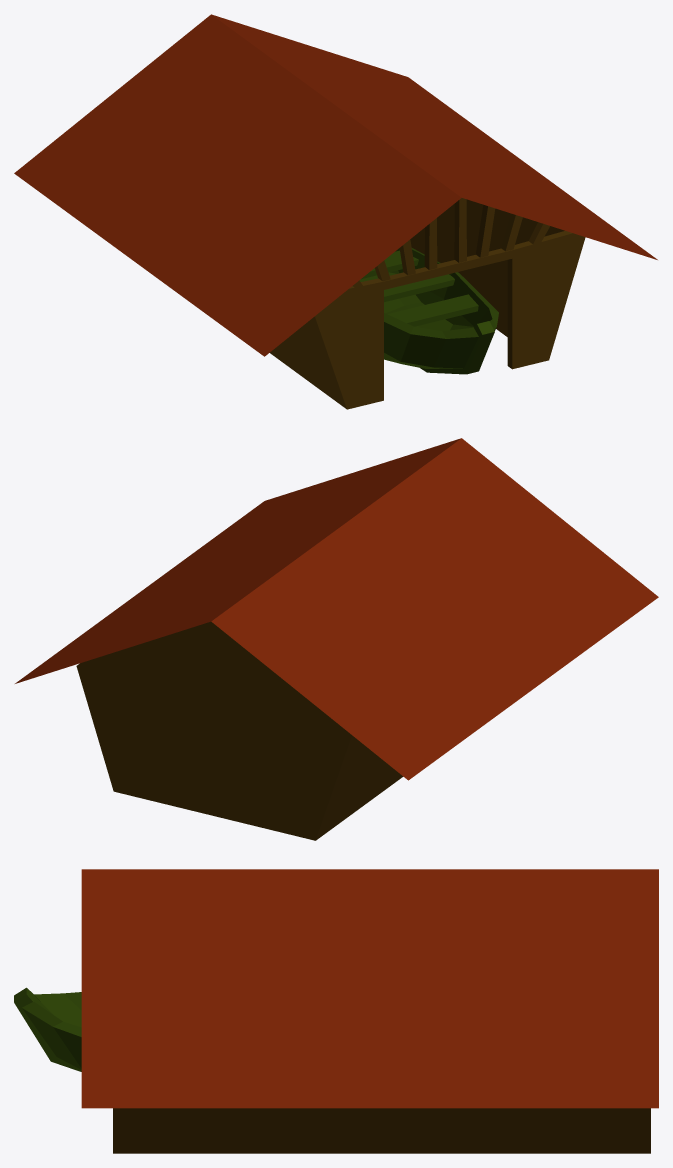
The model's file is 25.05_Bubuia_Estaleiro1-0.fbx.
3 renders of one model, top to bottom at view 1: azimuth 30°, elevation 25°; view 2: azimuth 150°, elevation 25°; view 3: azimuth 270°, elevation 25°, orthographic. The views are drawn at different scales.
Visible parts, largest first — view 1: Cube; view 2: Cube; view 3: Cube.
Part boxes in pixels (x1,y1,x2,y2): Cube: [14, 14, 657, 409]; Cube: [15, 438, 658, 840]; Cube: [14, 869, 658, 1153].
Bounding box in the file's own units: 1402 × 670 × 1724.
